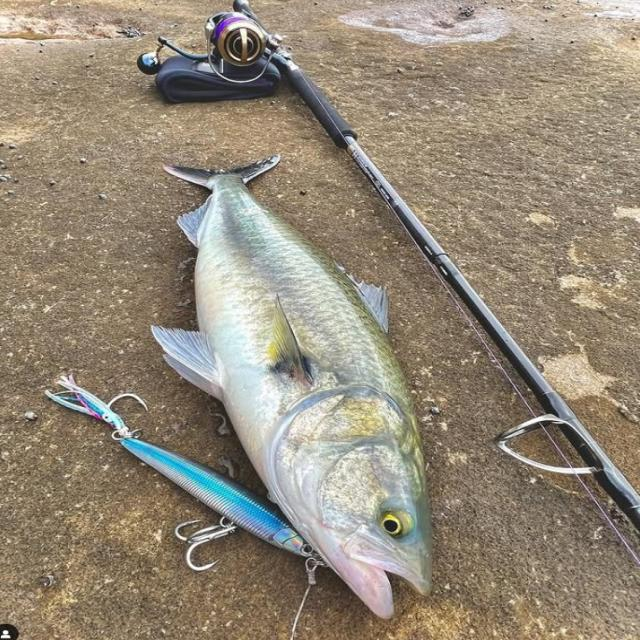Australian Salmon: (141, 144, 454, 619)
